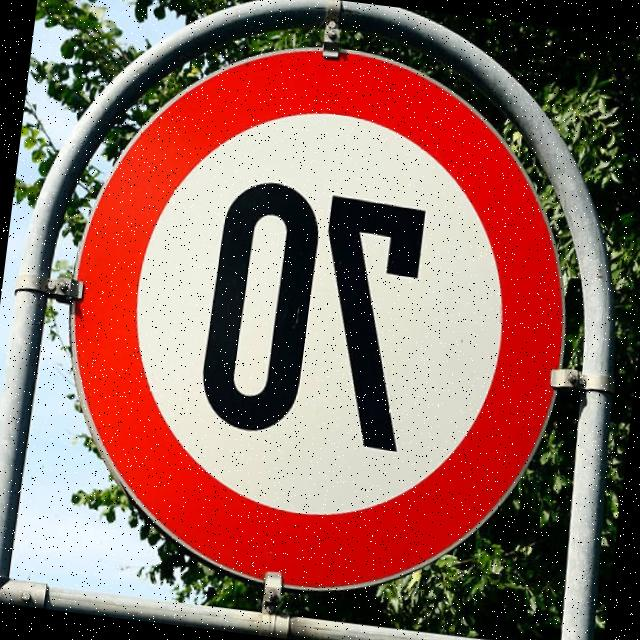speed_limit_70: (32, 12, 613, 628)
